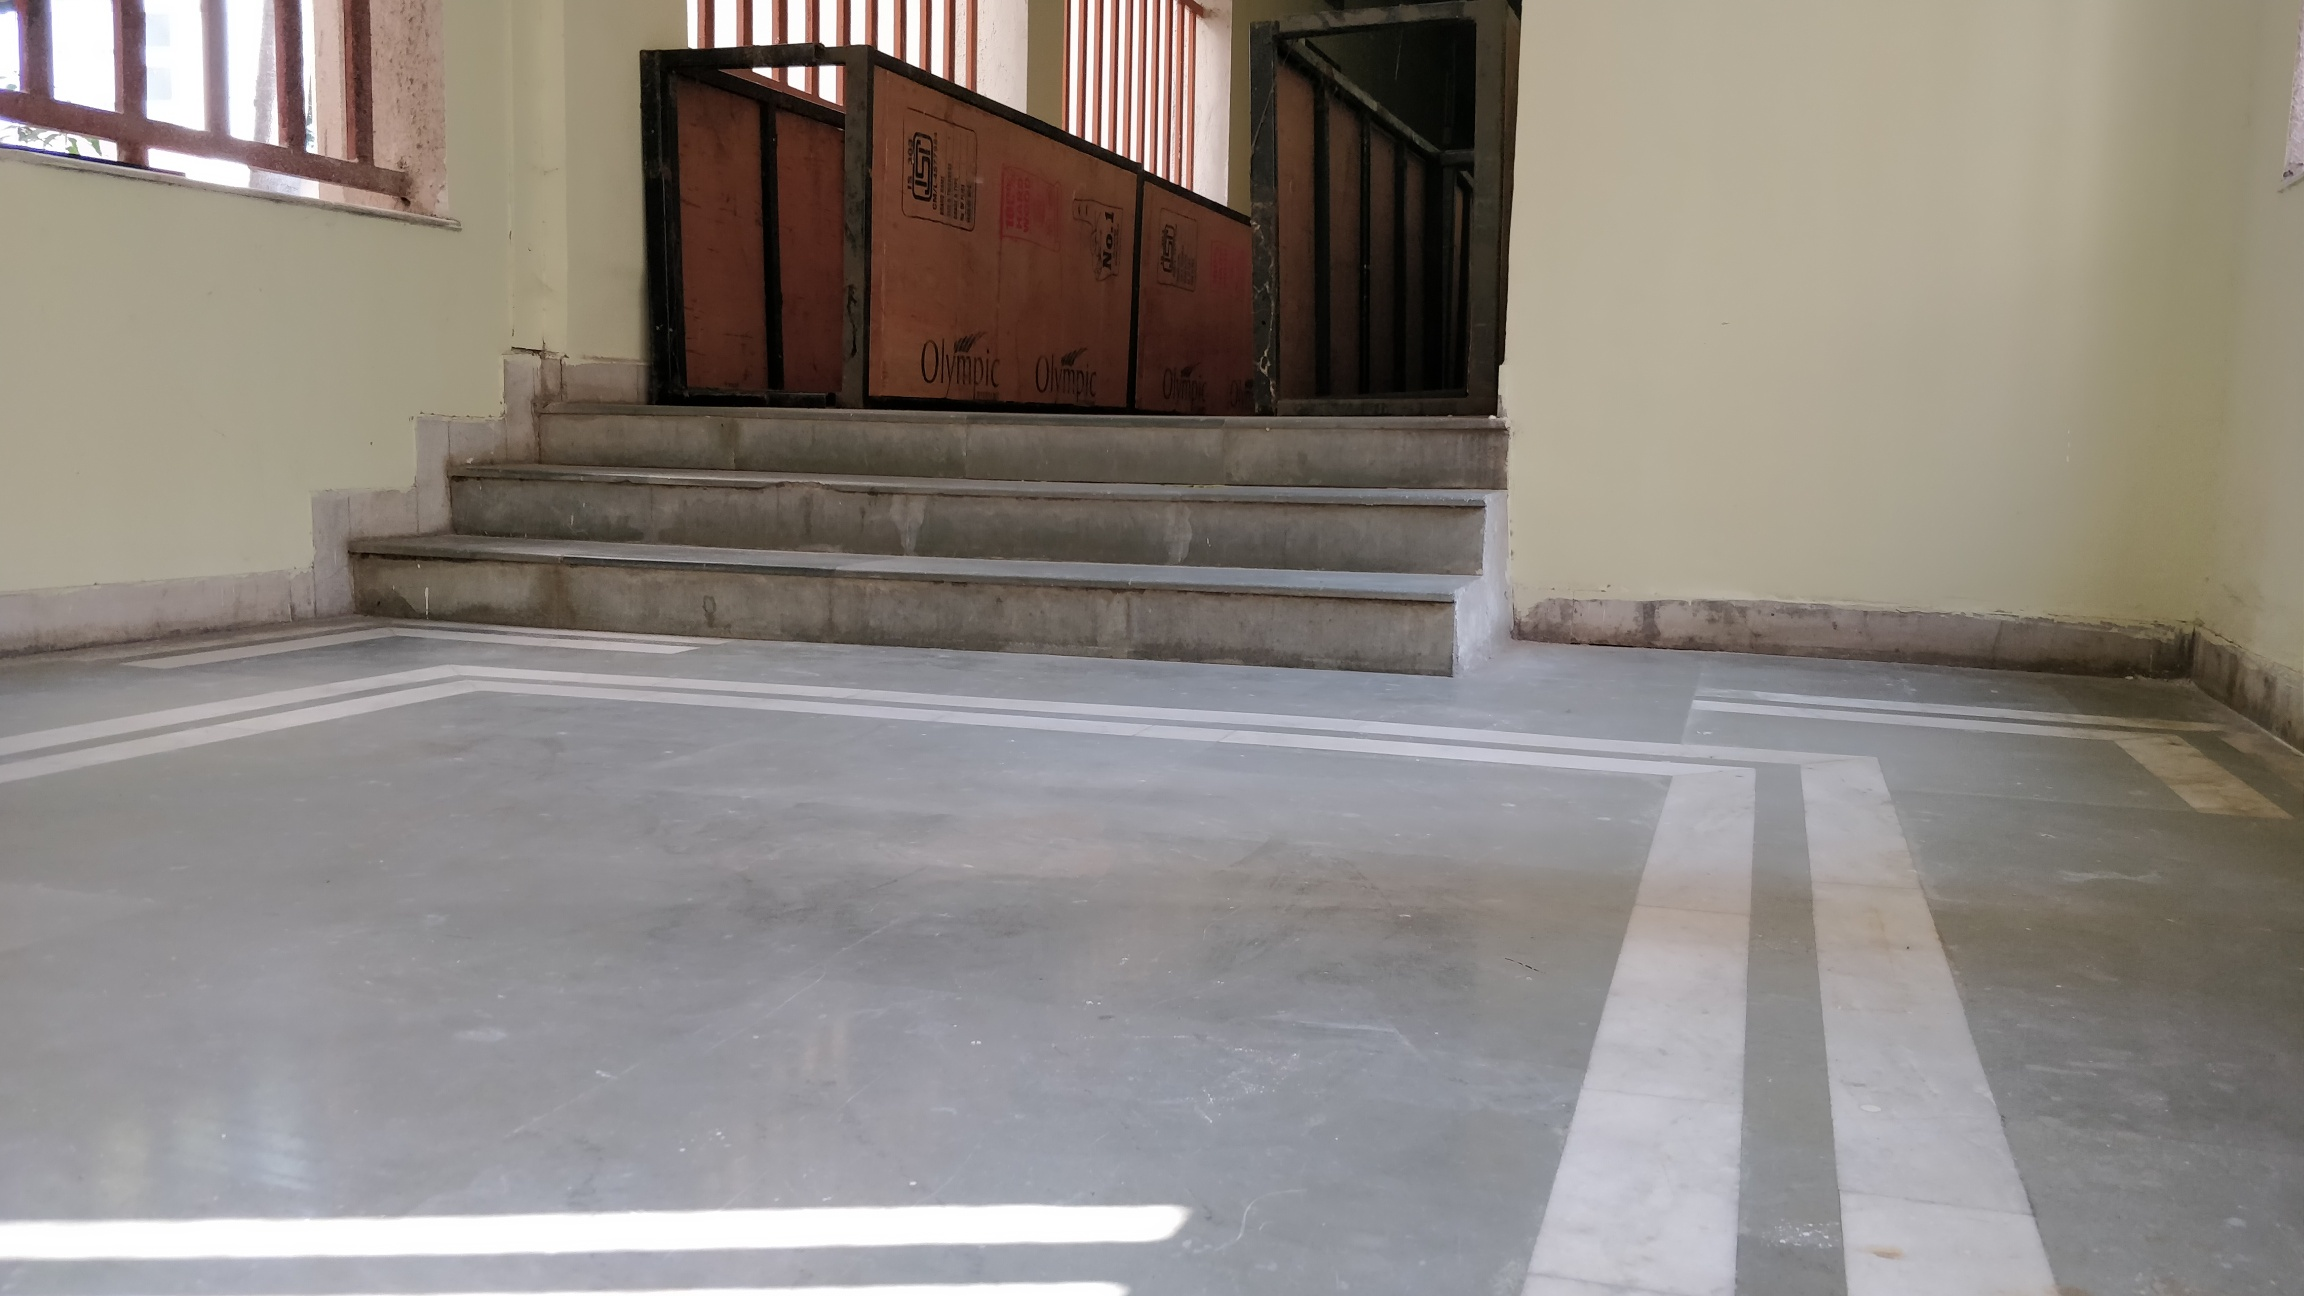stairs_up: (348, 402, 1505, 649)
